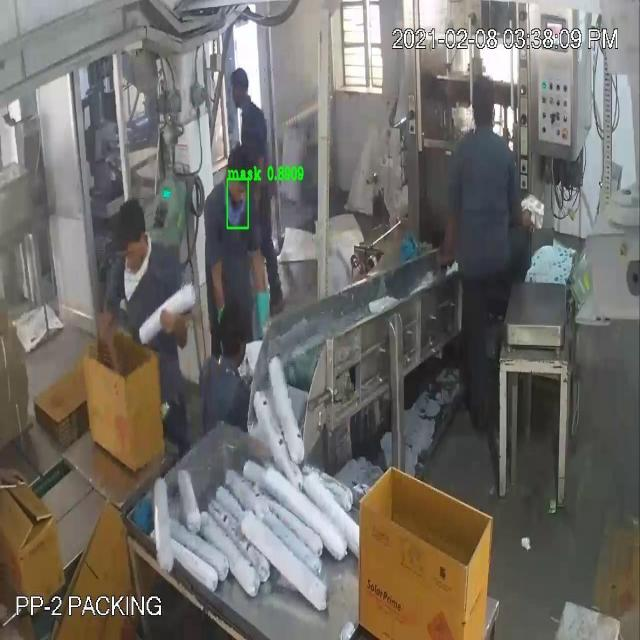No_Gloves: (42, 78, 172, 350)
